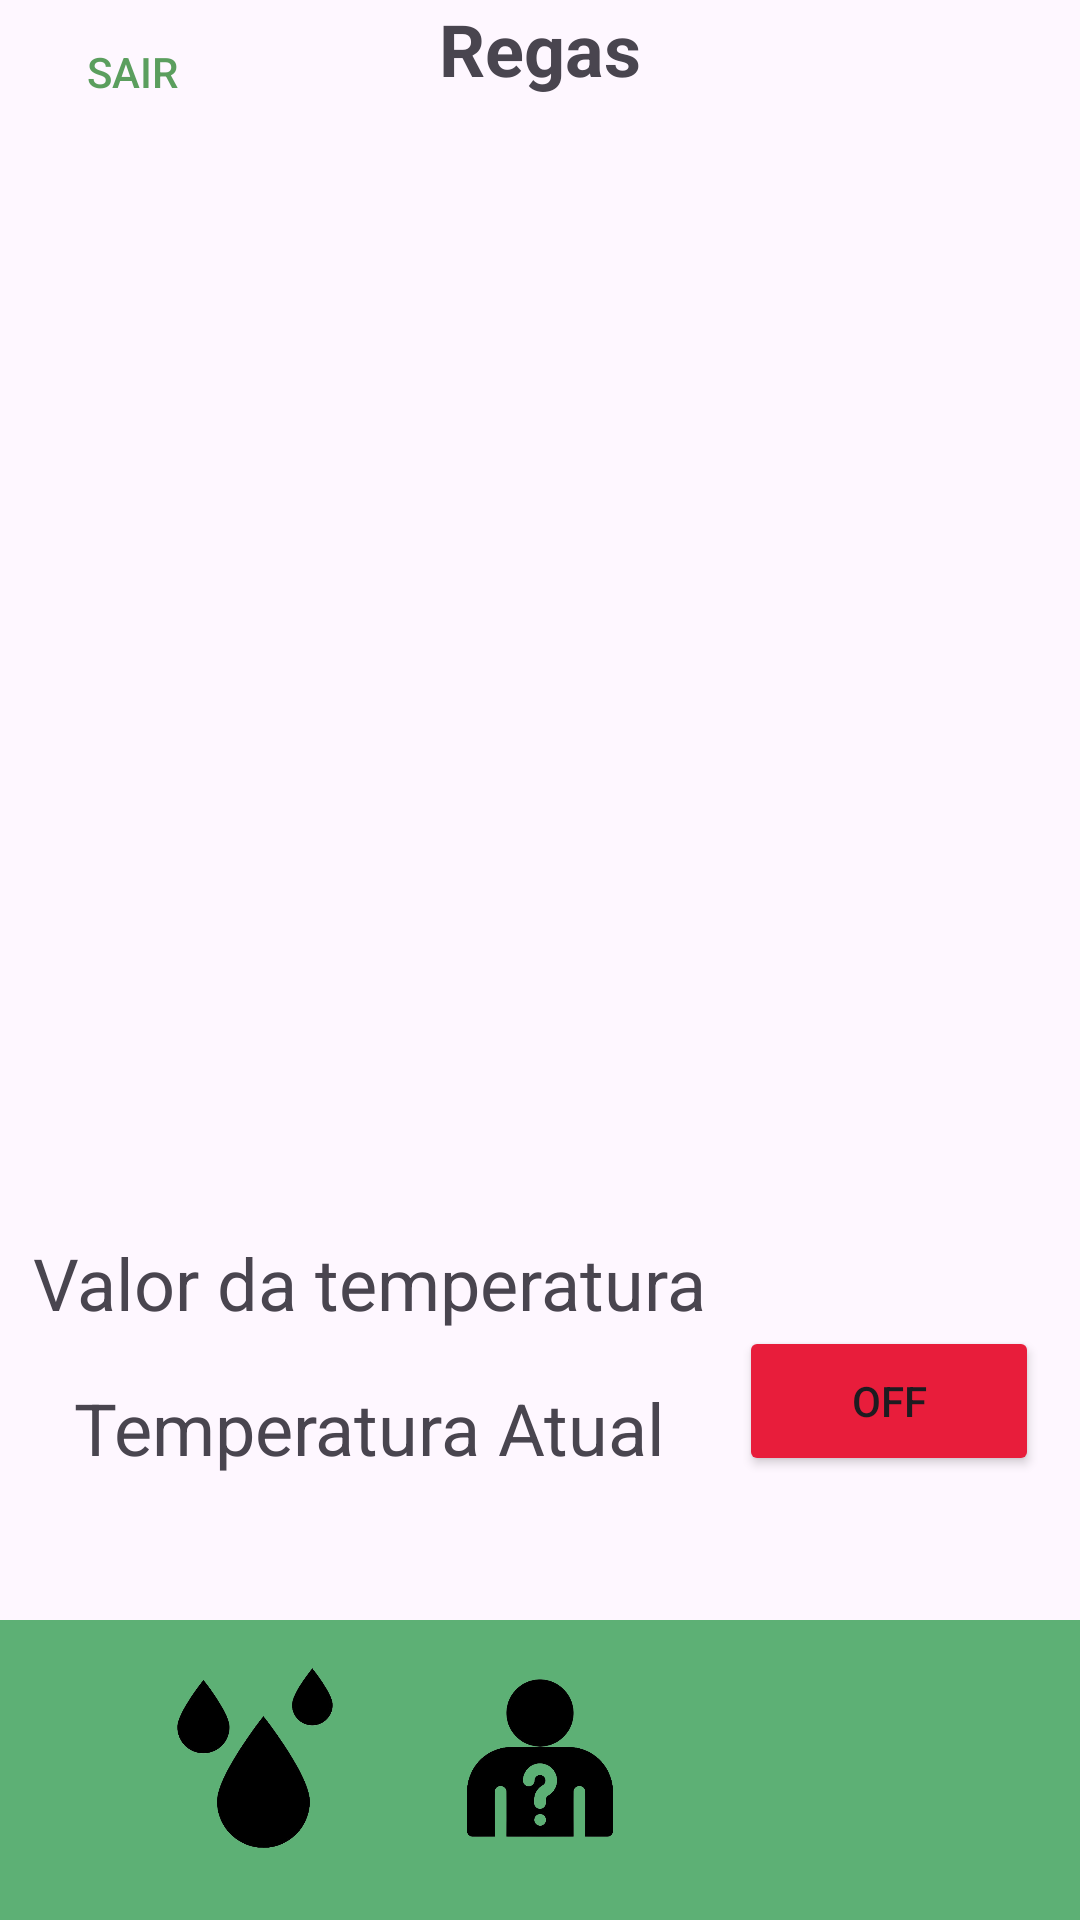

Named icons in this screenshot (1080x1920) and their centers, (x=x, y=y):
rega: (x=255, y=1758)
visitante: (x=540, y=1758)
